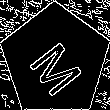M_NE: (23, 27, 88, 94)
